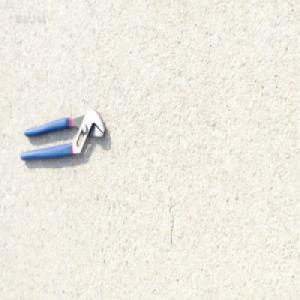Pliers: (19, 107, 107, 161)
